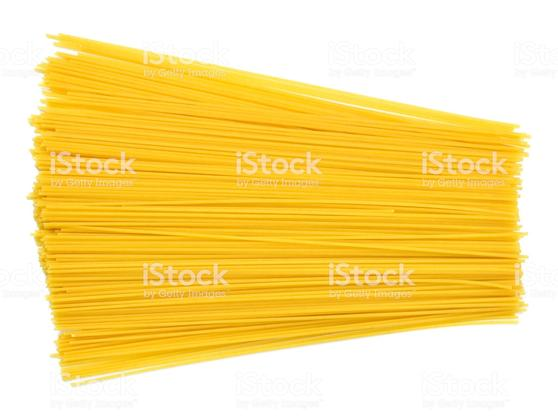spaghetti: (38, 28, 529, 381)
